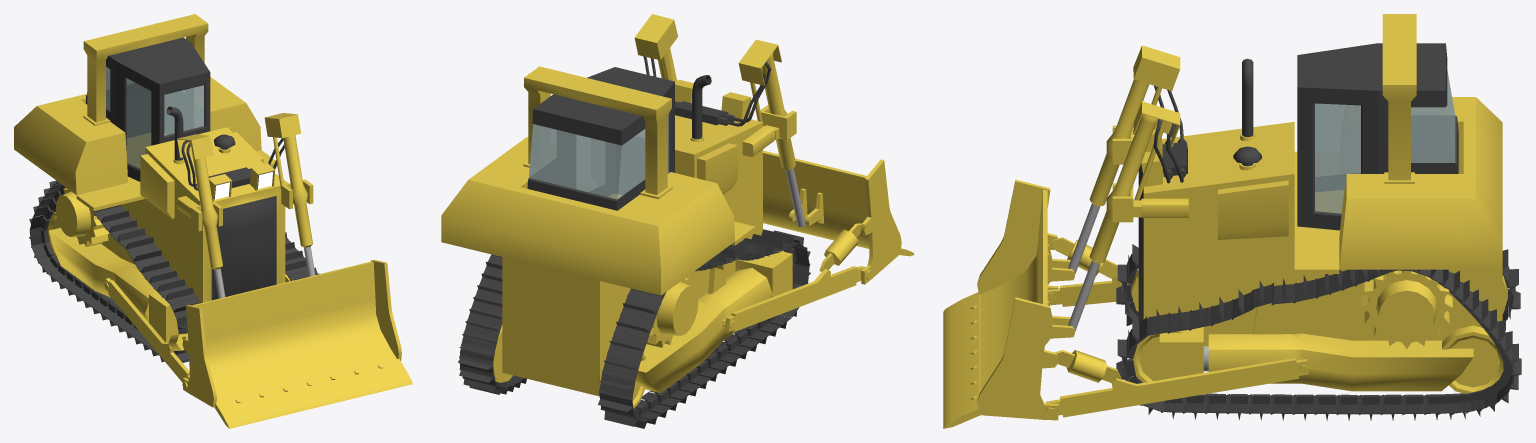
File: Bulldozer.glb
The picture shows the model from 3 angles, left to right: view 1: azimuth 30°, elevation 25°; view 2: azimuth 150°, elevation 25°; view 3: azimuth 270°, elevation 25°; orthographic projection. The views are drawn at different scales.
Parts seen in each view (by area): view 1: Box003, Plane002, Box004, Bulldozer, BulldozerTread011, BulldozerTread010, BulldozerTread012, BulldozerTread007; view 2: Box003, Box004, Plane002, Bulldozer, BulldozerTread039, BulldozerTread040, BulldozerTread043, BulldozerTread041, BulldozerTread042, BulldozerTread038, BulldozerTread080, BulldozerTread083 (+5 smaller); view 3: Box003, Box004, Plane002, Bulldozer, Cylinder012, Cylinder010, Cylinder011.
Boxes of the visible parts, x1,y1,x2,y2 form: Box003: (14,14,315,389); Plane002: (182,260,412,428); Box004: (85,37,210,181); Bulldozer: (56,106,235,246); BulldozerTread011: (129,246,163,268); BulldozerTread010: (122,235,156,254); BulldozerTread012: (137,259,171,279); BulldozerTread007: (97,209,131,229); Box003: (441,14,871,396); Box004: (527,67,674,210); Plane002: (763,150,914,284); Bulldozer: (646,75,711,347); BulldozerTread039: (598,372,636,399); BulldozerTread040: (602,353,641,380); BulldozerTread043: (620,297,661,323); BulldozerTread041: (607,334,647,360); BulldozerTread042: (613,315,654,341); BulldozerTread038: (598,392,634,417); BulldozerTread080: (458,348,493,377); BulldozerTread083: (463,314,502,341); Box003: (1045,14,1502,417); Box004: (1297,43,1458,230); Plane002: (943,179,1059,428); Bulldozer: (1233,58,1452,348); Cylinder012: (1442,325,1503,393); Cylinder010: (1132,330,1183,382); Cylinder011: (1253,303,1282,334).
Size of the model in its own units: 4.67 by 5.86 by 9.41.
